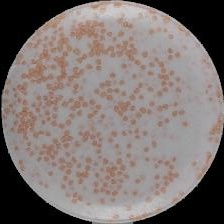55154-0253: (0, 0, 224, 224)
